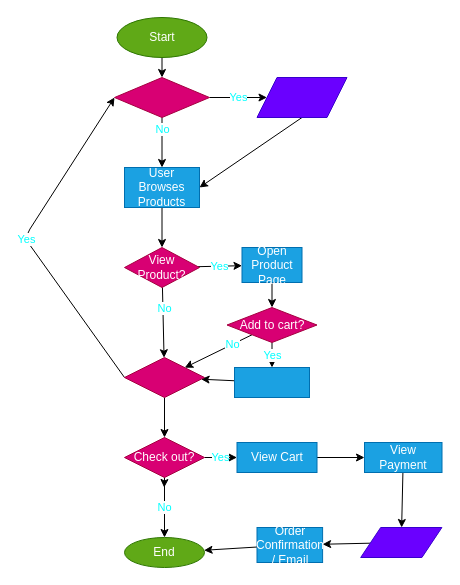
Image size: 460x585. Some labels were removed from this diagram. The centre of each missing label's shape, as x and y in pixels:
"Added to cart confirmation" belongs at (x=272, y=382).
"Continue Shopping?" belongs at (x=164, y=377).
"Payment Info" belongs at (x=401, y=542).
"Search?" belongs at (x=162, y=97).
"User Search" belongs at (x=301, y=97).
